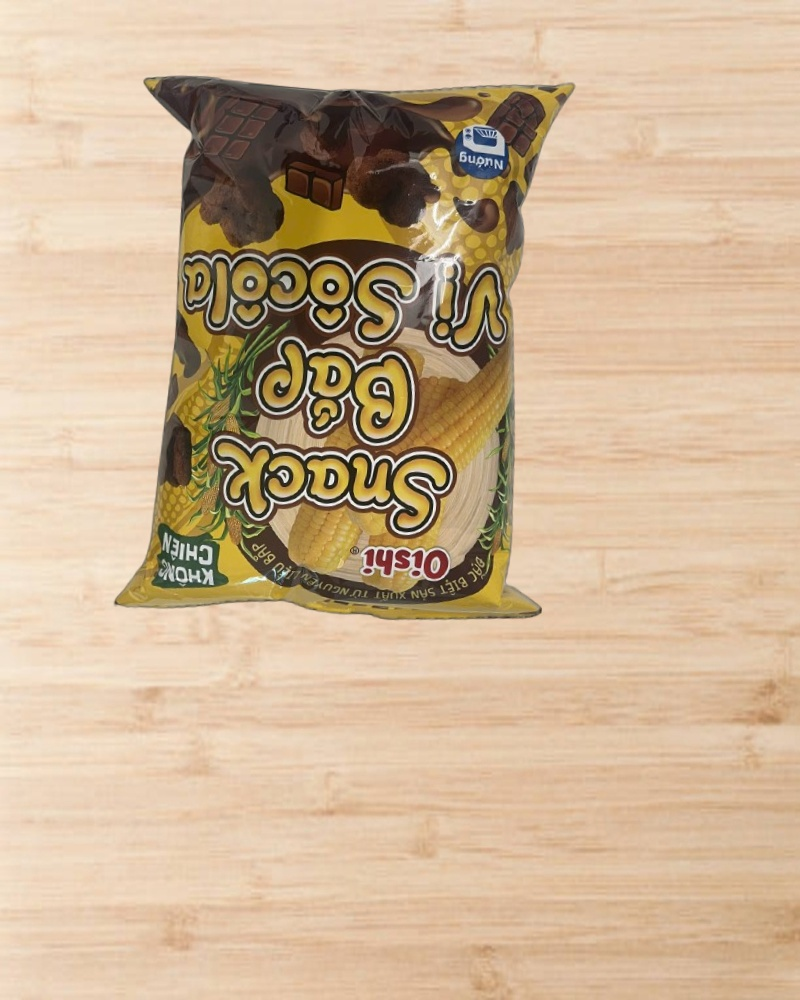Snack socola: (100, 50, 587, 642)
